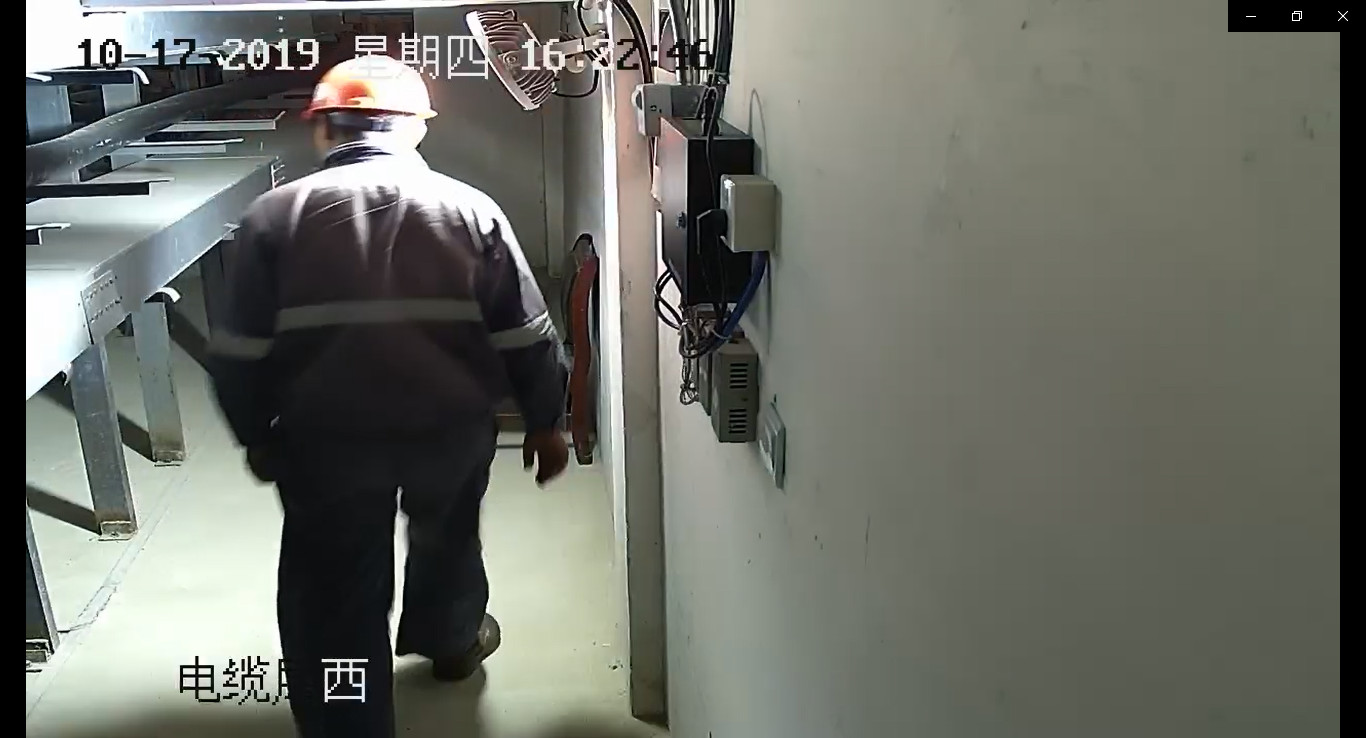helmet: (298, 55, 438, 124)
